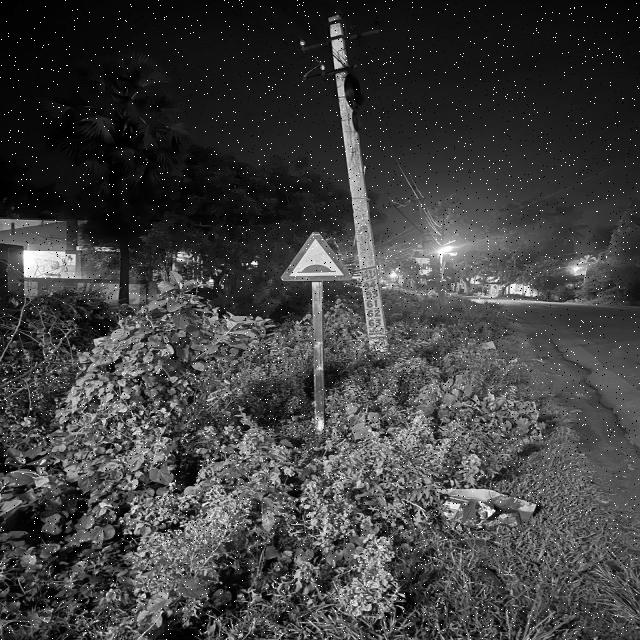Bump: (278, 230, 351, 283)
